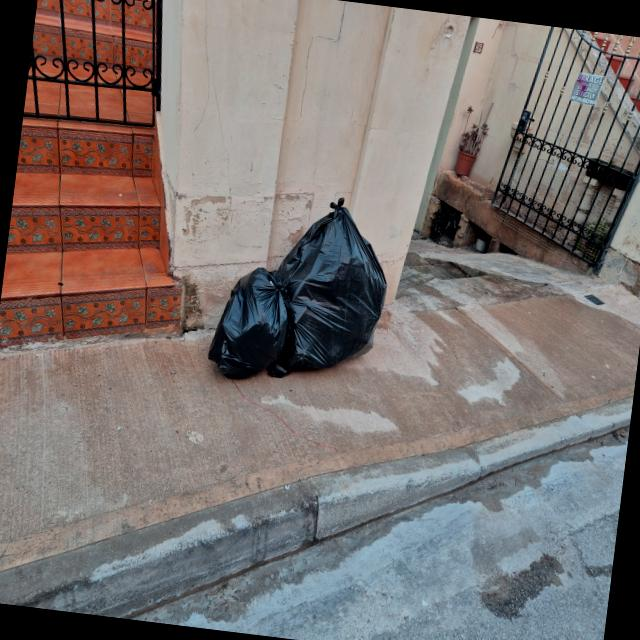black_bag: (262, 186, 412, 384), (194, 267, 297, 378)
